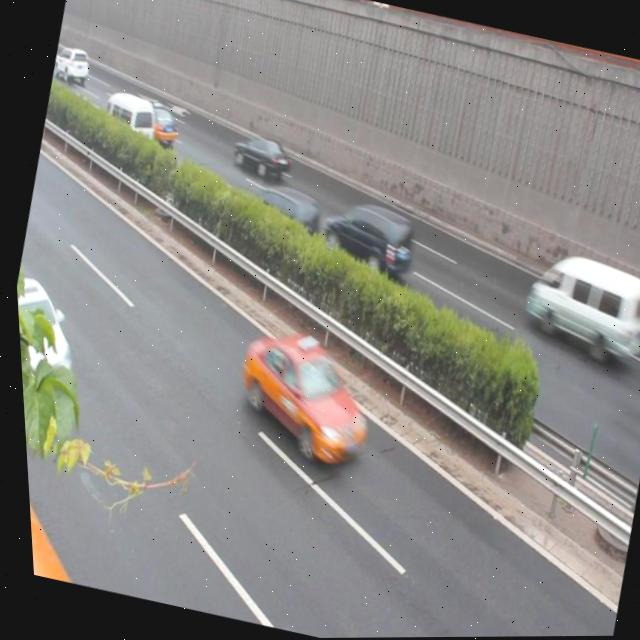car: (216, 319, 387, 478), (244, 179, 328, 246), (226, 128, 293, 182), (132, 99, 185, 150)
truck: (509, 248, 640, 367), (312, 196, 422, 283)
